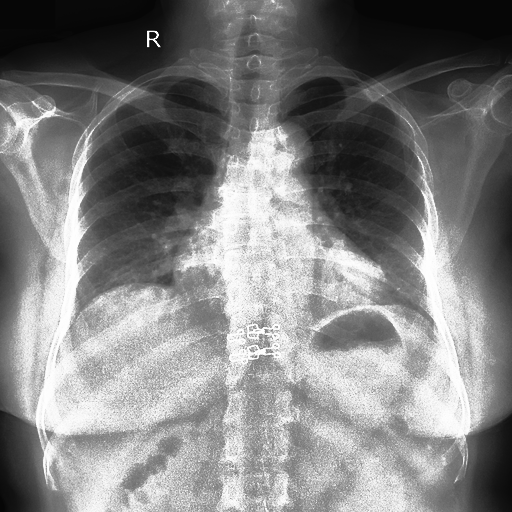Calcification: (352, 76, 406, 118)
Consolidation: (255, 122, 314, 166)
Nodule/Mass: (170, 242, 389, 306)
